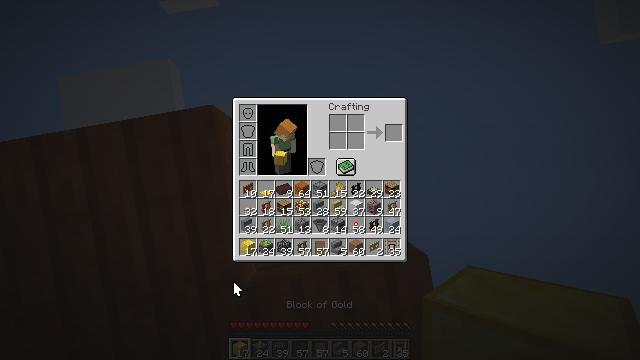cursor: (233, 281, 243, 297)
